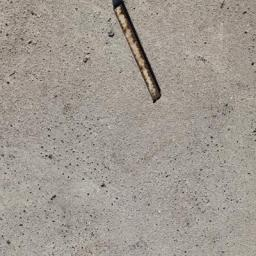FOD: (107, 2, 168, 105)
